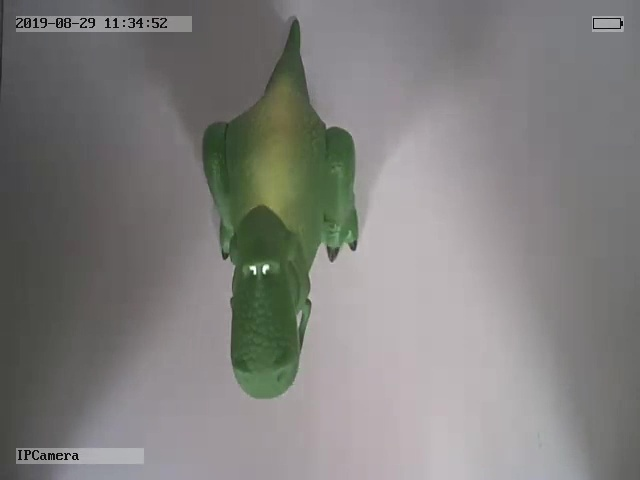rex: (198, 15, 360, 407)
